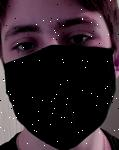with_mask: (1, 1, 119, 150)
